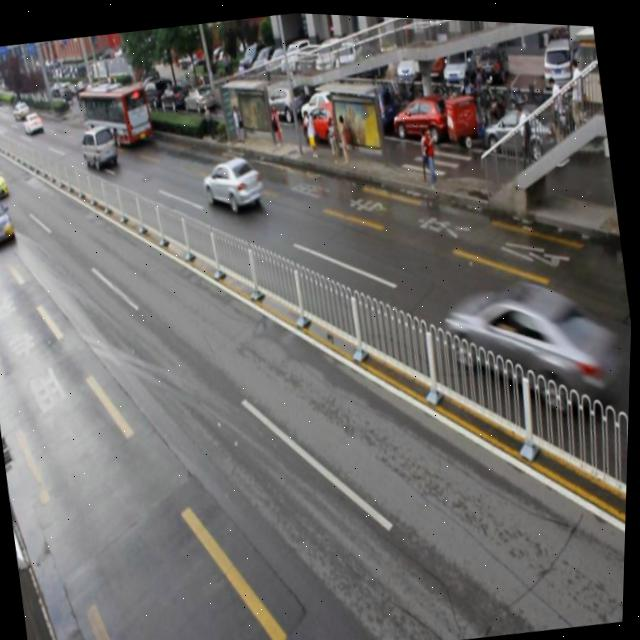car: (440, 264, 613, 420), (201, 149, 268, 213), (0, 193, 20, 250)
truck: (80, 122, 121, 173)
van: (78, 75, 157, 151)
